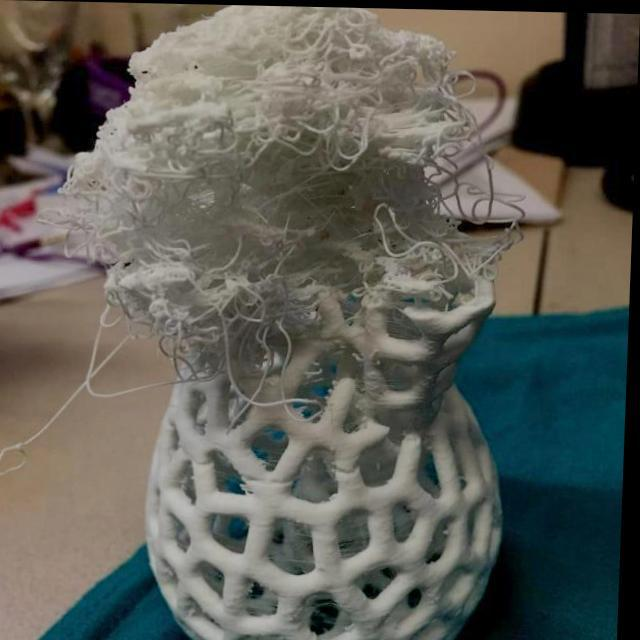spaghetti: (31, 2, 525, 354)
